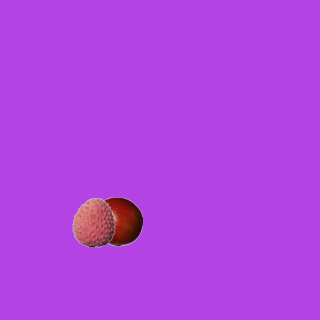Apple Braeburn: (92, 196, 142, 246)
Lychee: (68, 197, 118, 247)
